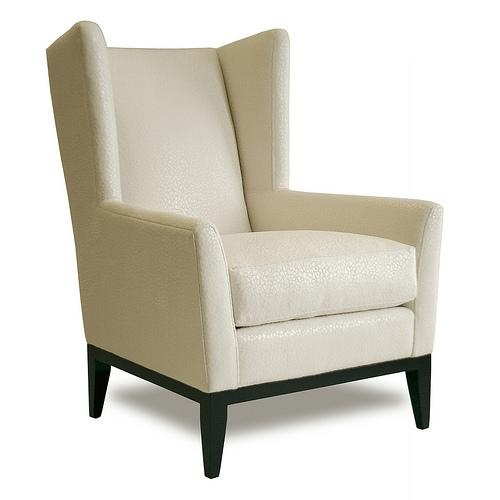obstacle: (47, 22, 441, 477)
